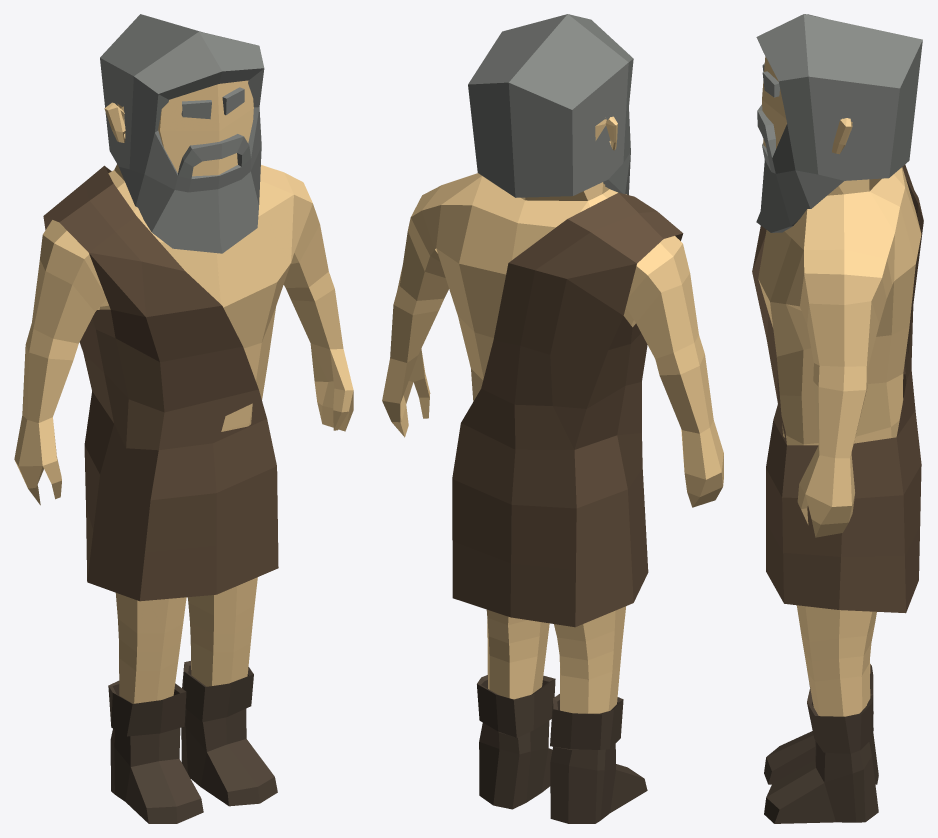
File: Elder.fbx
3 renders of one model, left to right at view 1: azimuth 30°, elevation 25°; view 2: azimuth 150°, elevation 25°; view 3: azimuth 270°, elevation 25°, orthographic.
Parts seen in each view (by area): view 1: Rope, Base Model, Hair, Boots; view 2: Rope, Base Model, Hair, Boots; view 3: Base Model, Hair, Rope, Boots.
Boxes of the visible parts, x1=… form: Rope: x1=43, y1=165, x2=278, y2=601; Base Model: x1=14, y1=80, x2=353, y2=703; Hair: x1=100, y1=14, x2=264, y2=253; Boots: x1=108, y1=661, x2=277, y2=823; Rope: x1=452, y1=192, x2=683, y2=627; Base Model: x1=382, y1=116, x2=723, y2=713; Hair: x1=468, y1=14, x2=633, y2=197; Boots: x1=477, y1=675, x2=647, y2=823; Base Model: x1=758, y1=56, x2=921, y2=716; Hair: x1=756, y1=14, x2=922, y2=232; Rope: x1=752, y1=164, x2=923, y2=613; Boots: x1=764, y1=664, x2=878, y2=823.
Bounding box in the file's own units: 86.83 × 191 × 38.18.
